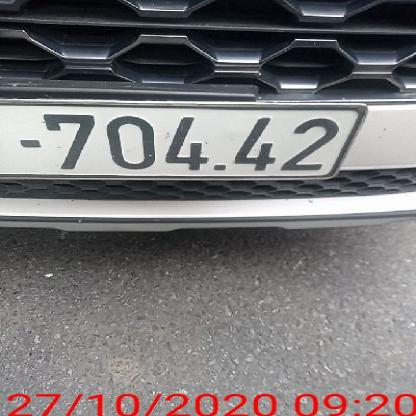biensoxe: (7, 94, 399, 202)
